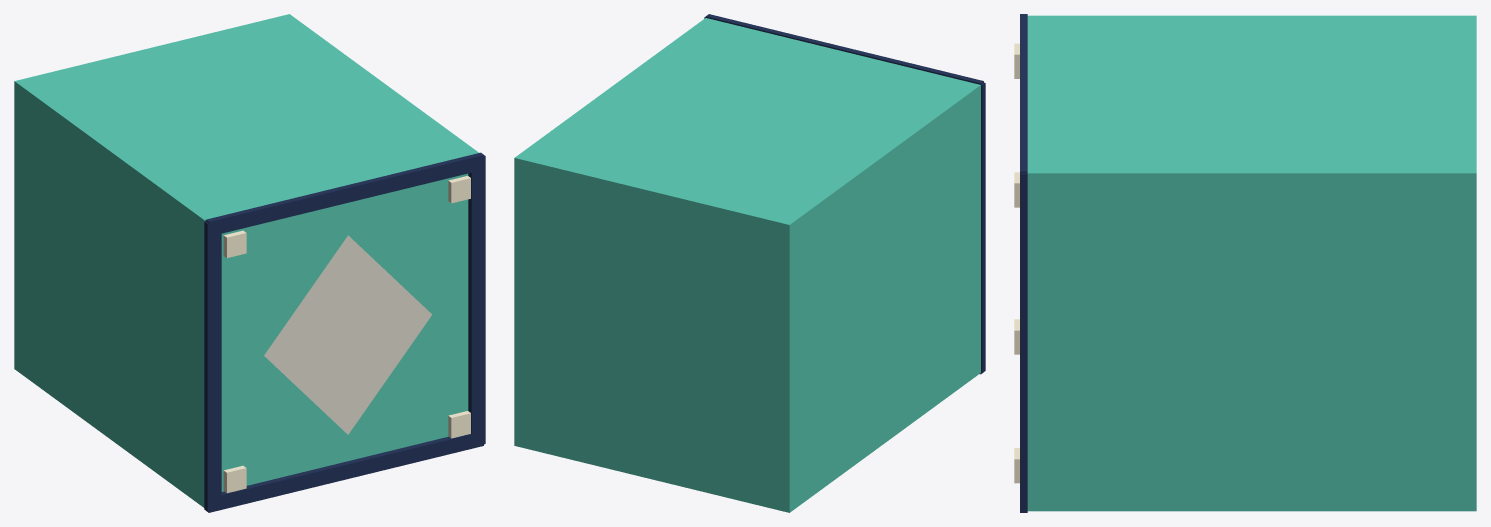
File: block-power.glb
The picture shows the model from 3 angles, left to right: view 1: azimuth 30°, elevation 25°; view 2: azimuth 150°, elevation 25°; view 3: azimuth 270°, elevation 25°; orthographic projection. The views are drawn at different scales.
Visible parts, largest first — view 1: Model; view 2: Model; view 3: Model.
Part boxes in pixels (x1,y1,x2,y2): Model: [14, 14, 485, 512]; Model: [514, 14, 985, 512]; Model: [1014, 14, 1476, 512].
Bounding box in the file's own units: 0.99 × 0.99 × 1.21.
1 material, 1 textured.
